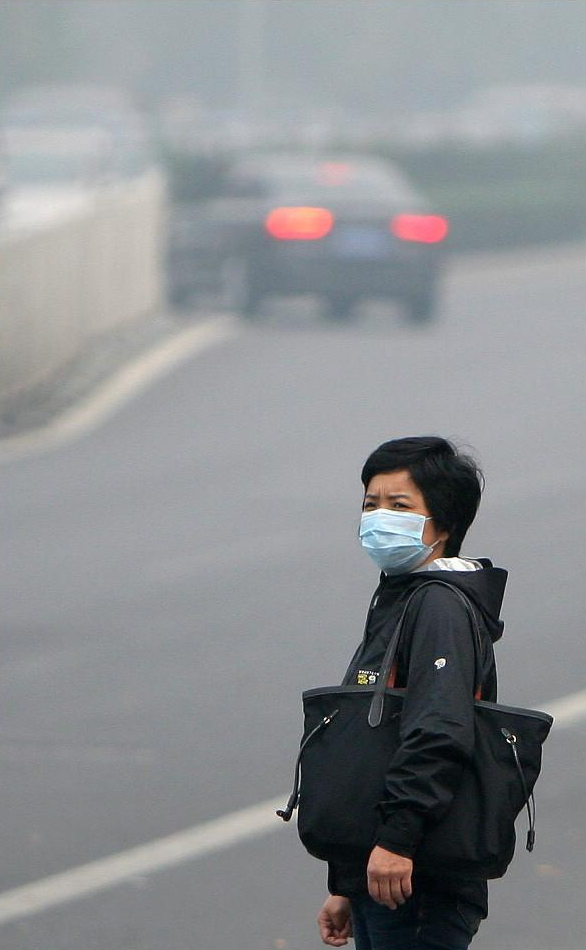car: (168, 149, 447, 323)
person: (314, 431, 509, 949)
